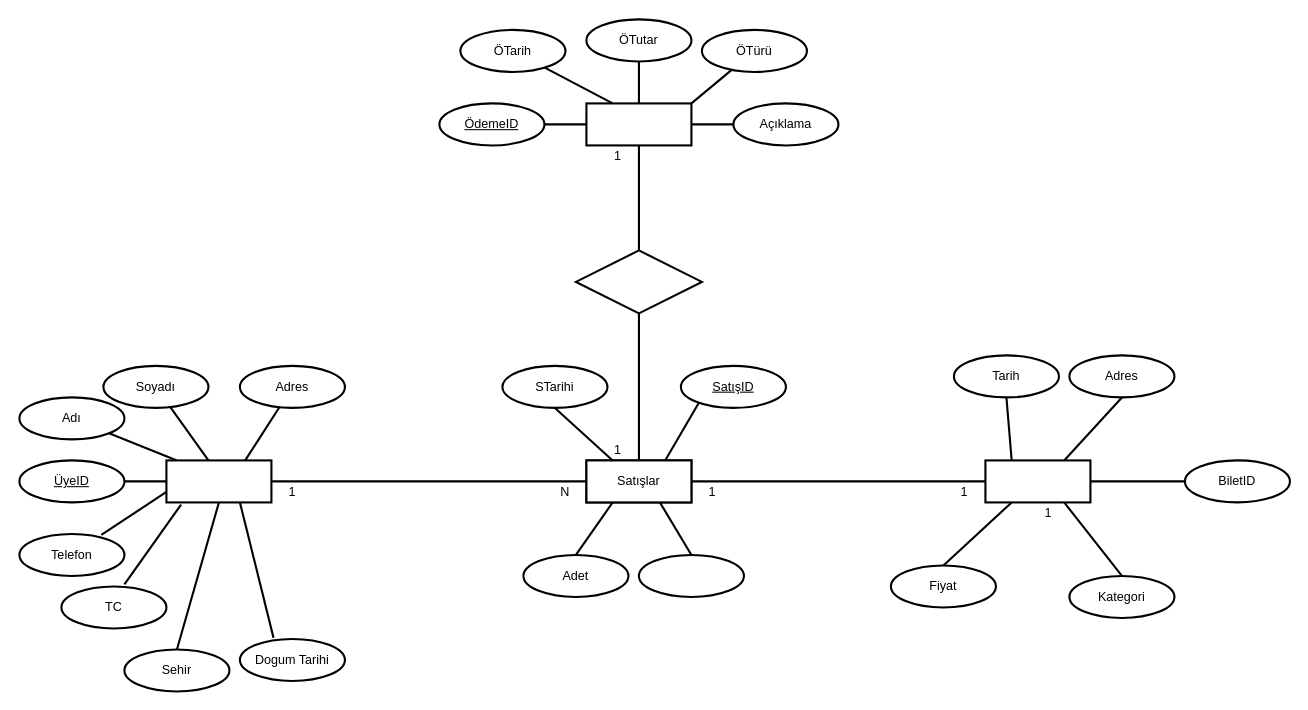
Image size: 1308x710. Some labels were removed from this diagram. Here are the shapes that lost their labels. From the top down, the centre of each, then its label:
At [638,124]: "Ödemeler".
At [638,281]: "işlem".
At [218,481]: "Üyeler".
At [1037,481]: "Biletler".
At [690,575]: "SFiyatı".
